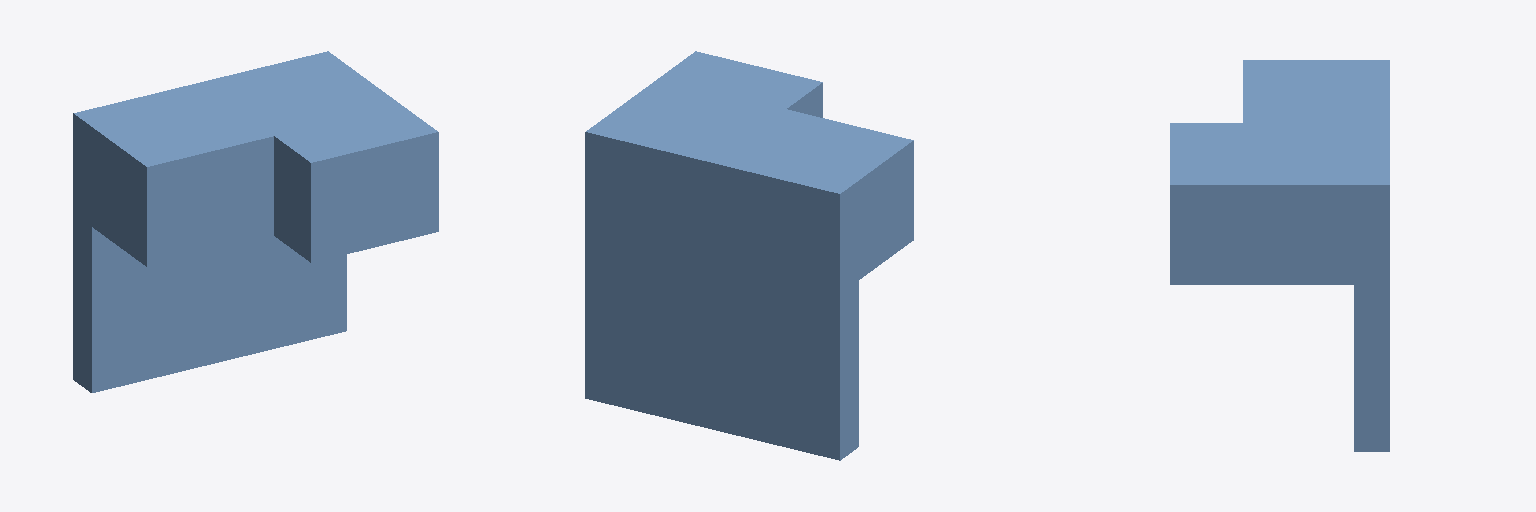
Rendered from E3-Rep03-p03.obj.
3 renders of one model, left to right at view 1: azimuth 30°, elevation 25°; view 2: azimuth 150°, elevation 25°; view 3: azimuth 270°, elevation 25°, orthographic.
Parts seen in each view (by area): view 1: mesh2, mesh6, mesh7, mesh9, mesh3, mesh8; view 2: mesh0, mesh6, mesh3, mesh8; view 3: mesh4, mesh6.
Boxes of the visible parts, <box> form: mesh2: <box>92,227,346,392</box>; mesh6: <box>74,51,437,166</box>; mesh7: <box>311,132,438,262</box>; mesh9: <box>147,136,273,266</box>; mesh3: <box>73,113,146,392</box>; mesh8: <box>274,136,310,262</box>; mesh0: <box>585,132,839,460</box>; mesh6: <box>586,51,913,193</box>; mesh3: <box>840,141,913,460</box>; mesh8: <box>787,83,822,117</box>; mesh4: <box>1170,185,1389,451</box>; mesh6: <box>1170,60,1389,184</box>.
Size of the model in its own units: 0.04 by 0.04 by 0.03.